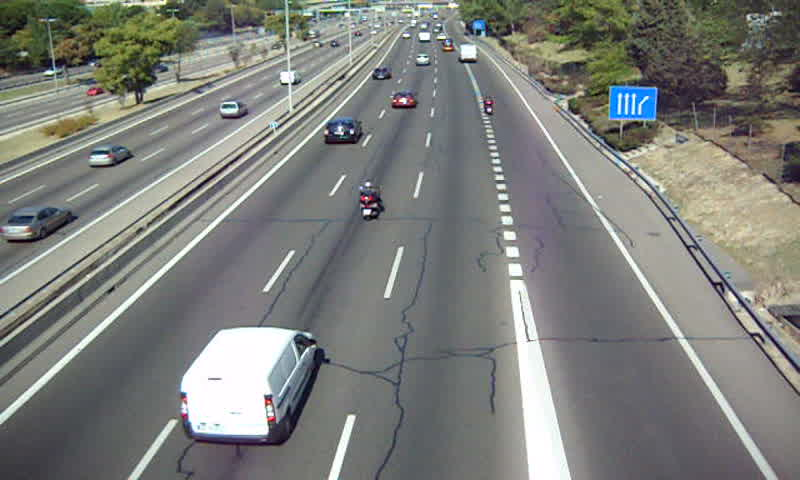car: (321, 118, 362, 143), (392, 90, 417, 107), (372, 66, 392, 79), (414, 53, 429, 66)
motorcycle: (356, 182, 382, 223), (483, 94, 493, 116)
van: (180, 328, 318, 442), (459, 43, 478, 62)
